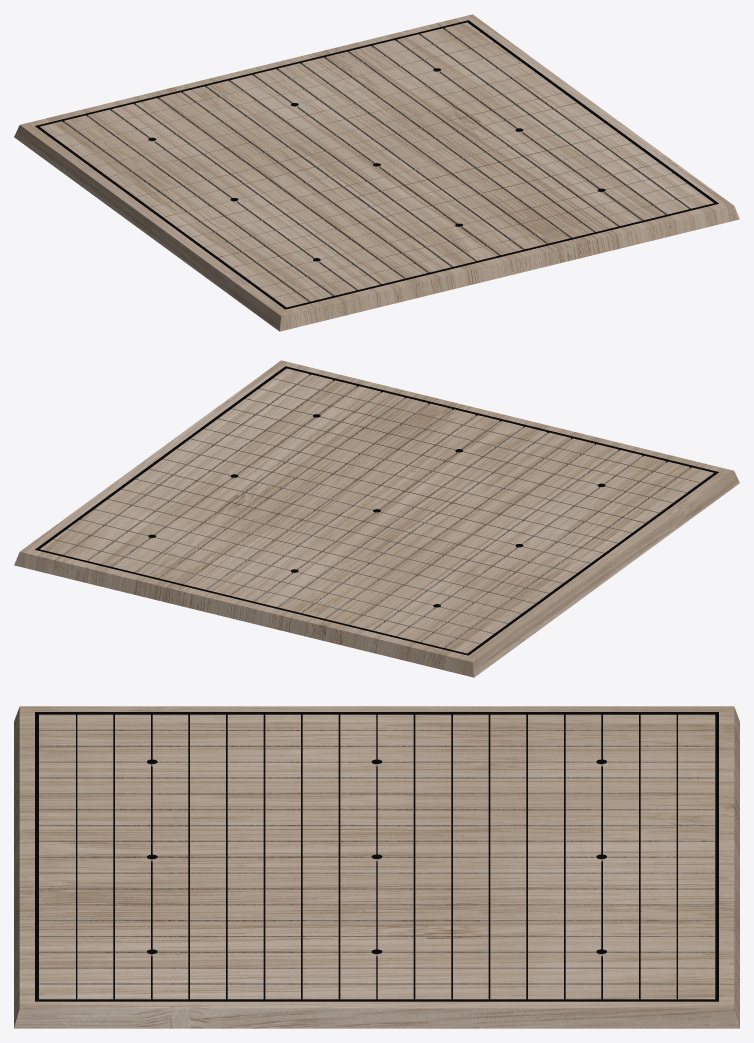
Rendered from go_board.glb.
3 renders of one model, top to bottom at view 1: azimuth 30°, elevation 25°; view 2: azimuth 150°, elevation 25°; view 3: azimuth 270°, elevation 25°, orthographic. The views are drawn at different scales.
Visible parts, largest first — view 1: edge, outline; view 2: edge, outline; view 3: edge, outline.
Part boxes in pixels (x1,y1,x2,y2): edge: (14, 14, 739, 331); outline: (35, 20, 718, 309); edge: (14, 360, 739, 677); outline: (35, 366, 718, 655); edge: (14, 706, 739, 1028); outline: (35, 712, 718, 1001).
Bounding box in the file's own units: 2.94 × 0.083 × 2.94.
2 materials, 1 textured.
